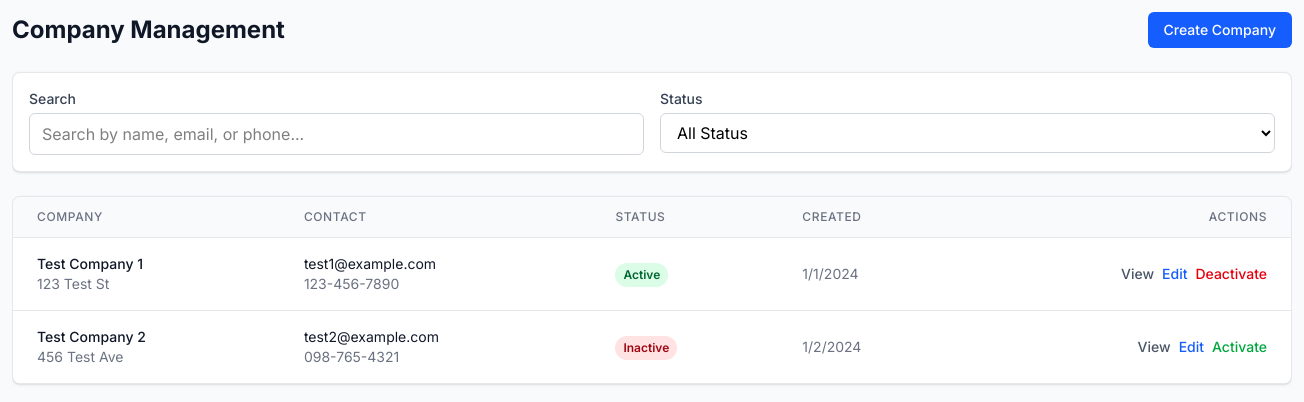
Test case: CompanyList › filters companies by status
The width and height of the screenshot is (1304, 402).
Check: the text "Test Company 1" is shown, box [37,255,143,272]
Check: the text "Test Company 2" is shown, box [37,328,146,345]
# Filter by active status
Select "Active" in the dropdown showing "All Status" at (968, 133), box [660,113,1275,153]
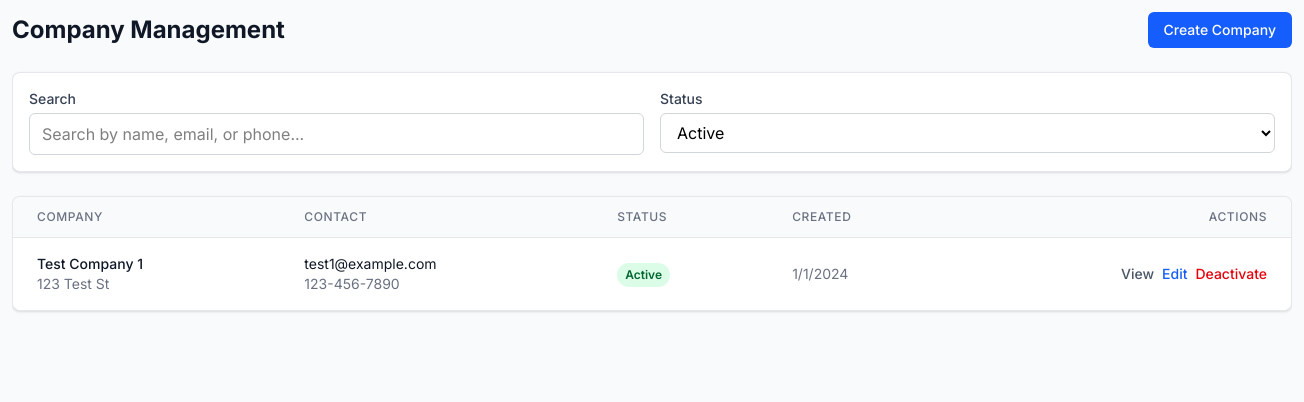
Check: the text "Test Company 1" is shown, box [37,255,143,272]
Check: the text "Test Company 2" is gone
